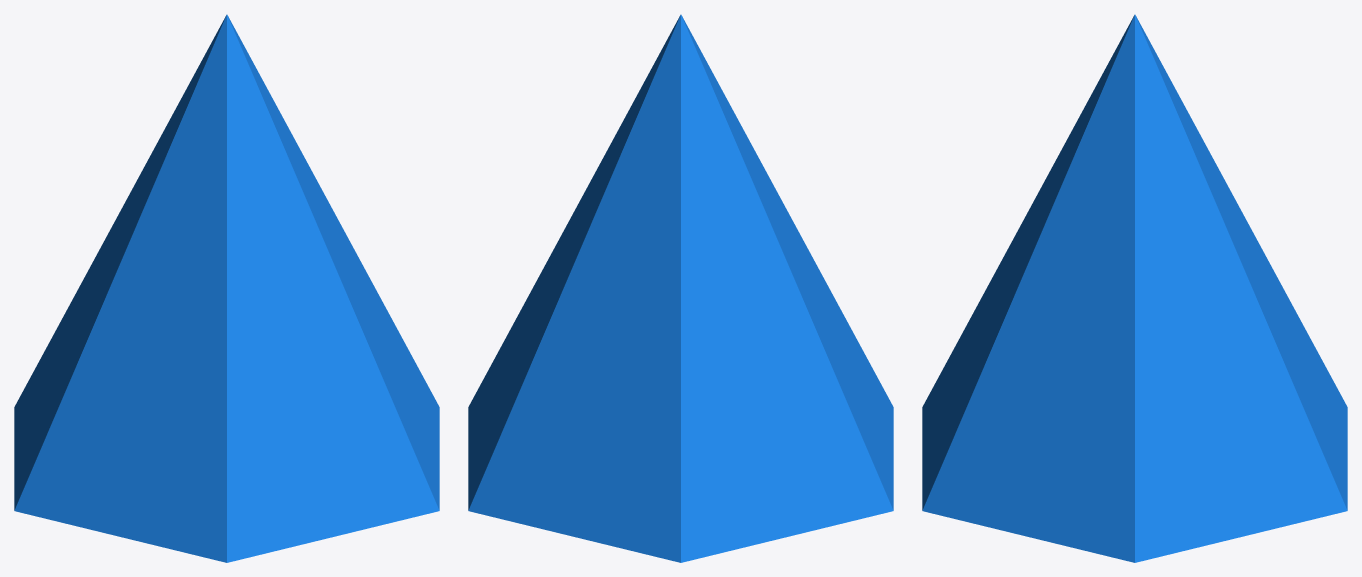
File: Proto_Block_Top_Point_Hexagon_01.fbx
3 views of the same model, side by side, from view 1: azimuth 30°, elevation 25°; view 2: azimuth 150°, elevation 25°; view 3: azimuth 270°, elevation 25° (orthographic).
Parts seen in each view (by area): view 1: Proto_Block_Top_Point_Hexagon_01; view 2: Proto_Block_Top_Point_Hexagon_01; view 3: Proto_Block_Top_Point_Hexagon_01.
Part boxes in pixels (<box>): Proto_Block_Top_Point_Hexagon_01: <box>14,14,439,562</box>; Proto_Block_Top_Point_Hexagon_01: <box>468,14,893,562</box>; Proto_Block_Top_Point_Hexagon_01: <box>922,14,1347,562</box>.
Bounding box in the file's own units: 1 × 1 × 0.866.
